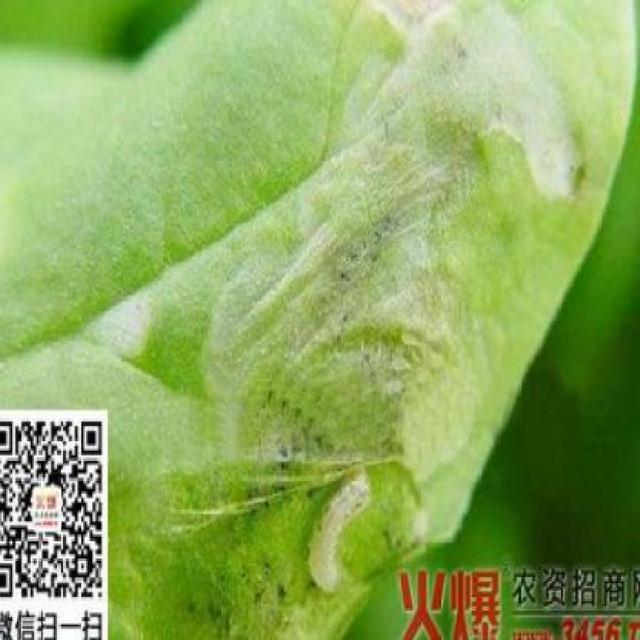whorl-maggot: (301, 448, 373, 608)
